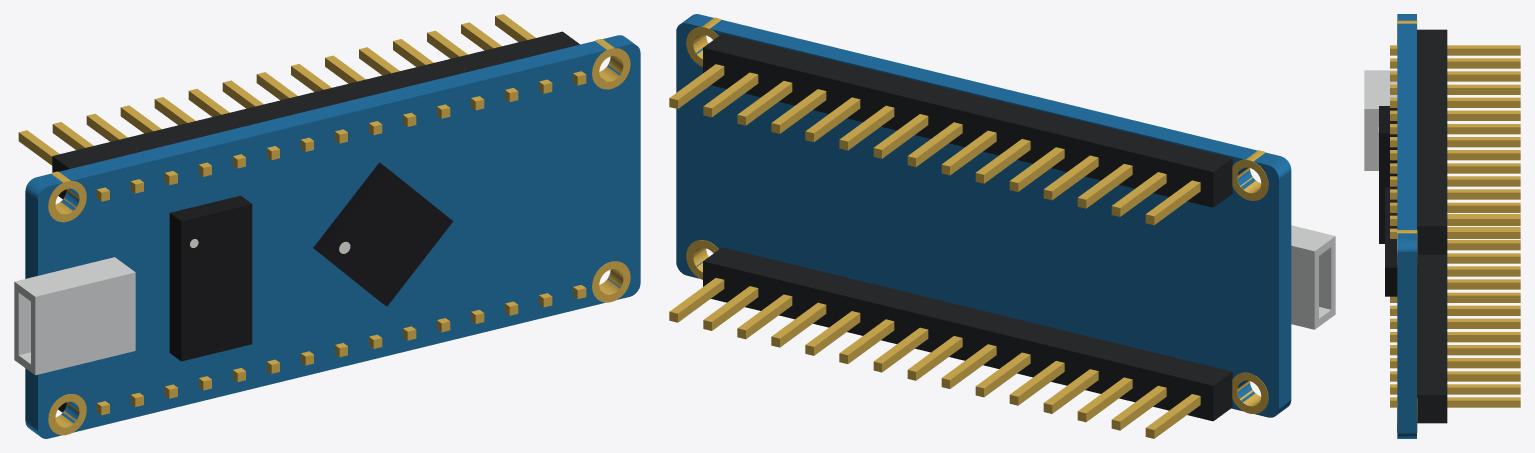
Rendered from nano-ft-anano-bb.glb.
3 views of the same model, side by side, from view 1: azimuth 30°, elevation 25°; view 2: azimuth 150°, elevation 25°; view 3: azimuth 270°, elevation 25° (orthographic). The views are drawn at different scales.
Visible parts, largest first — view 1: board, ft232rl, usb, header_2_pins, atmega328p, header_2, header_1_pins, hole_4, hole_2, hole_3, hole_1; view 2: board, header_1, header_2, header_1_pins, header_2_pins, usb, hole_3, hole_1, hole_4, hole_2; view 3: header_2_pins, header_1_pins, board, header_2, header_1, usb, ft232rl, atmega328p.
Boxes of the visible parts, left/top/right/bottom form: board: left=25, top=35, right=640, bottom=438; ft232rl: left=169, top=195, right=252, bottom=361; usb: left=14, top=257, right=135, bottom=375; header_2_pins: left=18, top=14, right=586, bottom=201; atmega328p: left=313, top=162, right=453, bottom=306; header_2: left=52, top=31, right=579, bottom=198; header_1_pins: left=96, top=285, right=586, bottom=415; hole_4: left=592, top=39, right=630, bottom=89; hole_2: left=592, top=261, right=630, bottom=302; hole_3: left=48, top=171, right=86, bottom=222; hole_1: left=48, top=394, right=86, bottom=435; board: left=676, top=14, right=1291, bottom=417; header_1: left=703, top=247, right=1232, bottom=421; header_2: left=703, top=33, right=1232, bottom=207; header_1_pins: left=669, top=278, right=1200, bottom=438; header_2_pins: left=669, top=64, right=1200, bottom=225; usb: left=1291, top=225, right=1335, bottom=329; hole_3: left=1232, top=150, right=1268, bottom=200; hole_1: left=1232, top=372, right=1268, bottom=413; hole_4: left=686, top=17, right=722, bottom=66; hole_2: left=686, top=240, right=718, bottom=279; header_2_pins: left=1390, top=45, right=1520, bottom=238; header_1_pins: left=1390, top=214, right=1520, bottom=407; board: left=1397, top=14, right=1416, bottom=438; header_2: left=1417, top=29, right=1447, bottom=254; header_1: left=1417, top=254, right=1447, bottom=423; usb: left=1364, top=70, right=1397, bottom=170; ft232rl: left=1379, top=106, right=1397, bottom=243; atmega328p: left=1385, top=187, right=1397, bottom=296.
Size of the model in its own units: 46.75 by 18.06 by 12.8.
